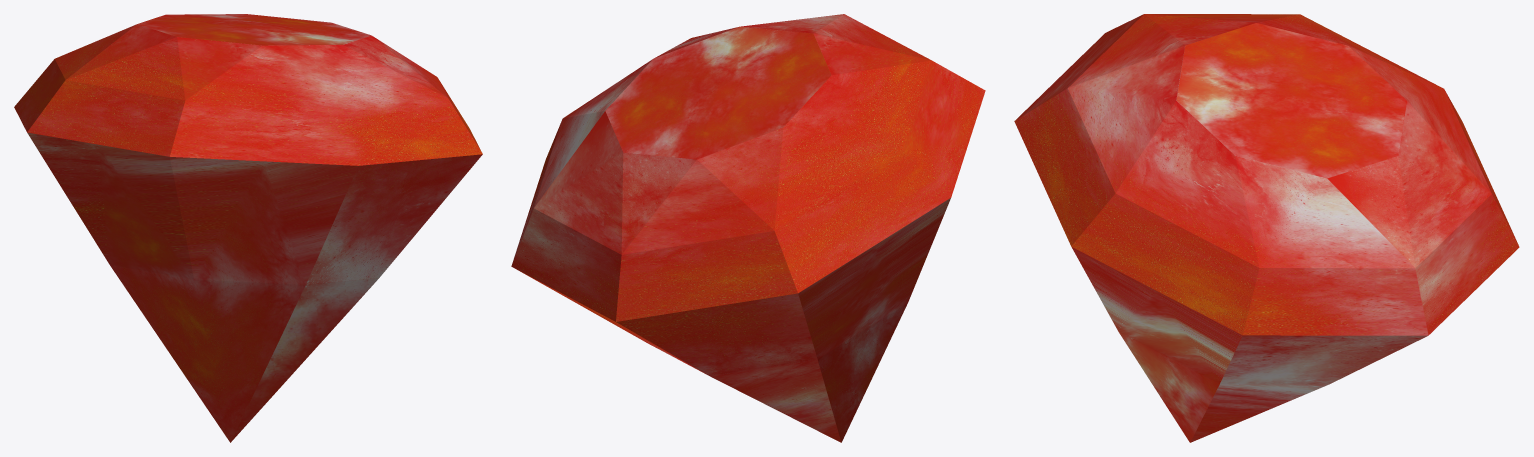
The model's file is diamond-shape-top.gltf.
3 views of the same model, side by side, from view 1: azimuth 30°, elevation 25°; view 2: azimuth 150°, elevation 25°; view 3: azimuth 270°, elevation 25° (orthographic). The views are drawn at different scales.
Visible parts, largest first — view 1: dimond; view 2: dimond; view 3: dimond.
Part boxes in pixels (x1,y1,x2,y2): dimond: (14, 14, 482, 442); dimond: (511, 14, 985, 442); dimond: (1014, 14, 1519, 442).
Bounding box in the file's own units: 8.88 × 7.92 × 8.79.
